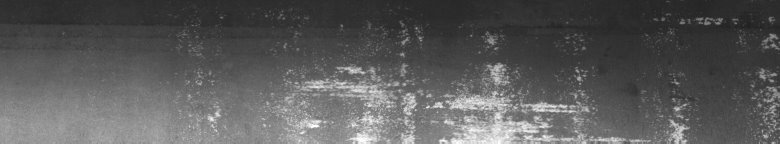kb: (176, 11, 776, 136)
